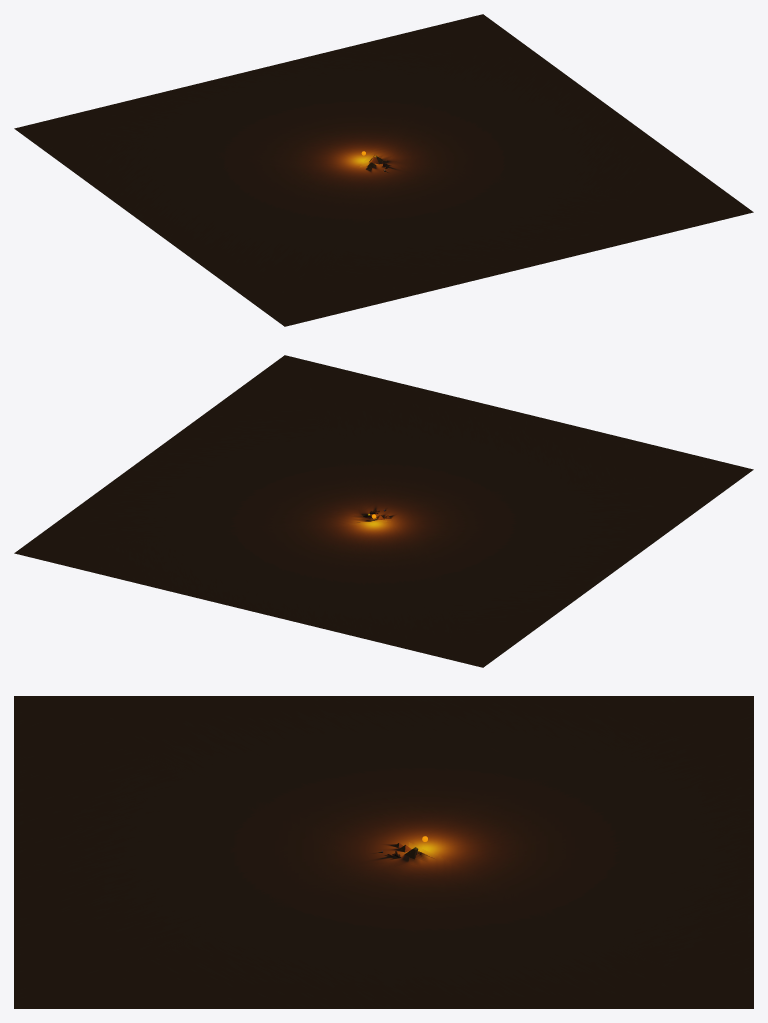
Rendered from web 2.glb.
The picture shows the model from 3 angles, top to bottom: view 1: azimuth 30°, elevation 25°; view 2: azimuth 150°, elevation 25°; view 3: azimuth 270°, elevation 25°; orthographic projection. The views are drawn at different scales.
Parts seen in each view (by area): view 1: Cylinder; view 2: Cylinder; view 3: Cylinder.
Boxes of the visible parts, left/top/right/bottom form: Cylinder: left=14, top=14, right=753, bottom=326; Cylinder: left=14, top=355, right=753, bottom=667; Cylinder: left=14, top=696, right=753, bottom=1008.
Bounding box in the file's own units: 1247 × 24.07 × 1247.
Materials: 14 (6 with a texture image).
